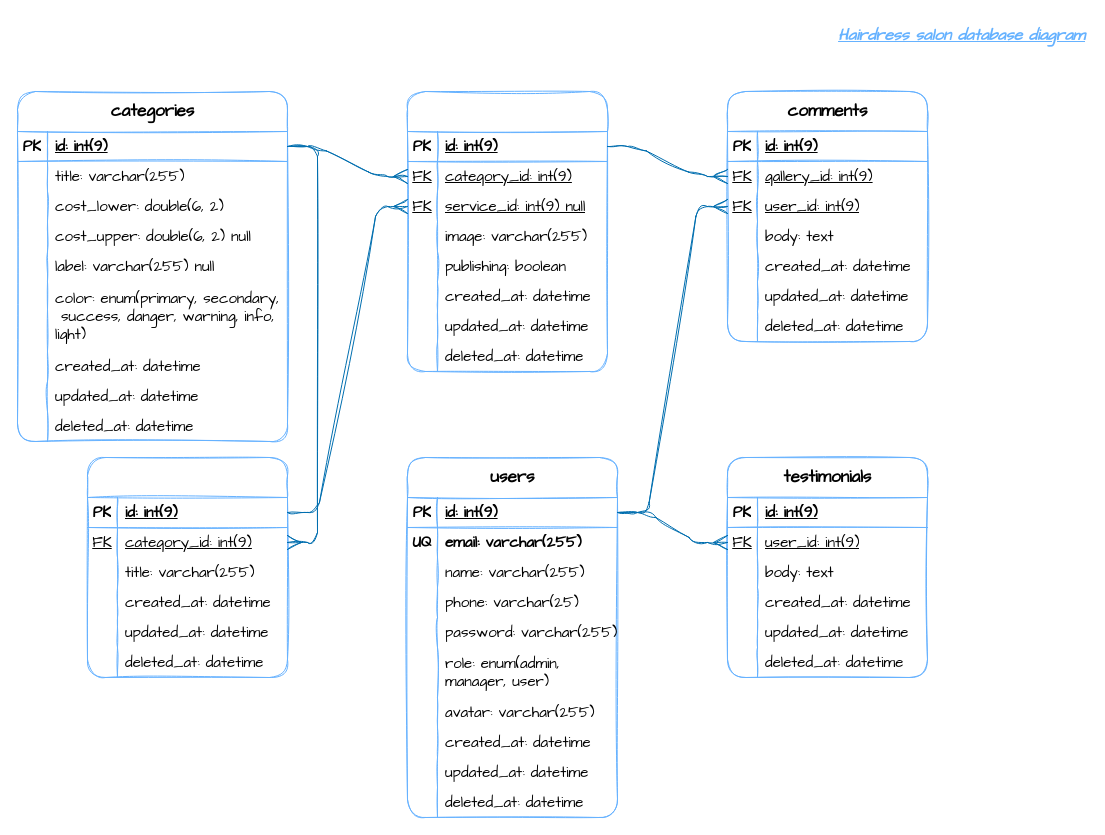
The diagram is 1105 pixels wide and 835 high, and some of its shapes have lost their labels. The shapes that lost their labels are listed below. From the top down, each one's box as (x1, y1, x2, y2) in pixels, then its label:
(406, 90, 608, 372): gallery
(86, 456, 288, 678): services
